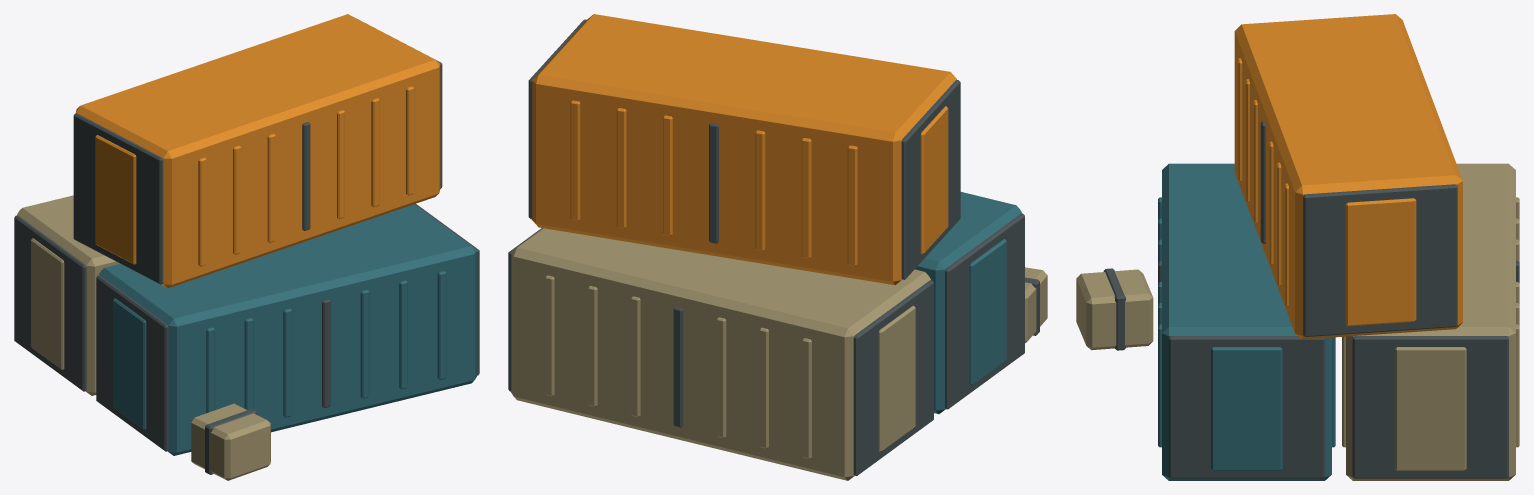
The model's file is wb_container_stack.glb.
The picture shows the model from 3 angles, left to right: view 1: azimuth 30°, elevation 25°; view 2: azimuth 150°, elevation 25°; view 3: azimuth 270°, elevation 25°; orthographic projection. The views are drawn at different scales.
Visible parts, largest first — view 1: wb_container_stack; view 2: wb_container_stack; view 3: wb_container_stack.
Part boxes in pixels (x1,y1,x2,y2): wb_container_stack: (14,14,479,480); wb_container_stack: (508,14,1047,480); wb_container_stack: (1076,14,1519,480).
Size of the model in its own units: 2.21 by 1.7 by 2.22.
